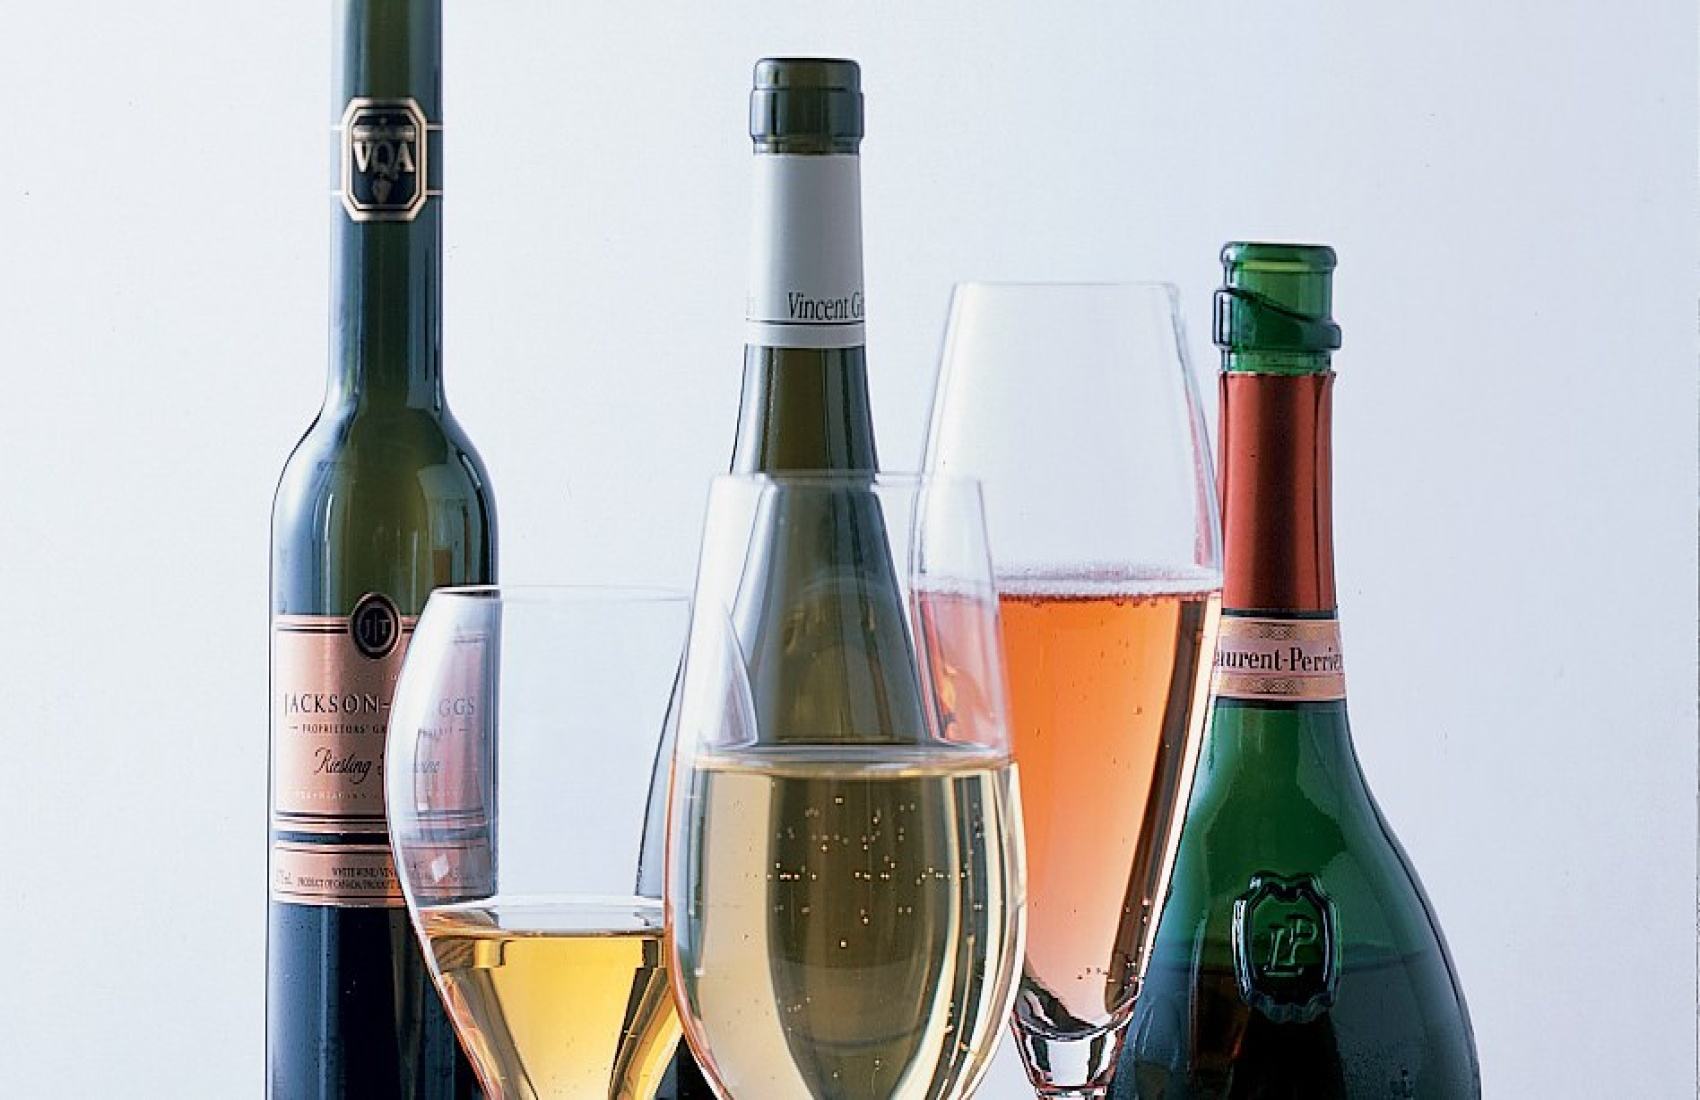wine: (1133, 238, 1478, 1094), (266, 5, 494, 1100)
